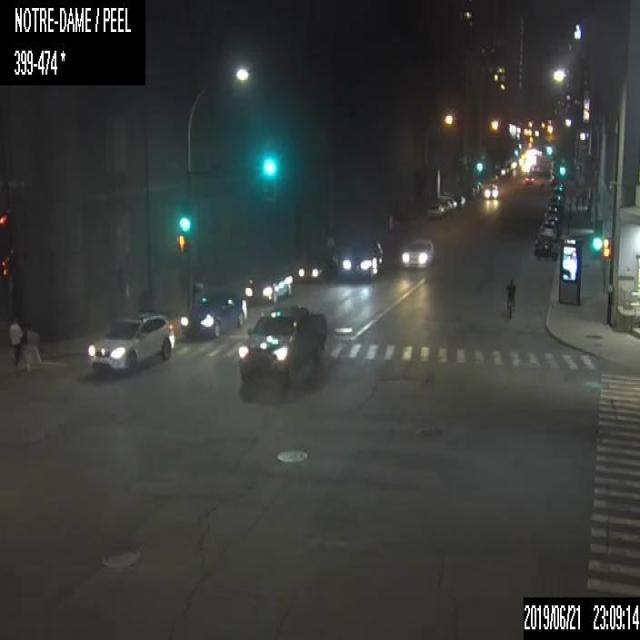cyclist: (503, 275, 516, 320)
pedestrian: (21, 328, 42, 372), (7, 317, 20, 368)
vehicle: (237, 306, 327, 386), (86, 310, 175, 373), (180, 290, 245, 336), (341, 234, 382, 278), (244, 268, 291, 301), (297, 254, 337, 281), (400, 238, 436, 266), (530, 234, 552, 259), (538, 219, 557, 240), (426, 200, 443, 218), (543, 201, 558, 218), (484, 181, 499, 198), (442, 191, 456, 209), (437, 195, 451, 211), (453, 192, 465, 208), (544, 213, 558, 225), (522, 172, 534, 186)
